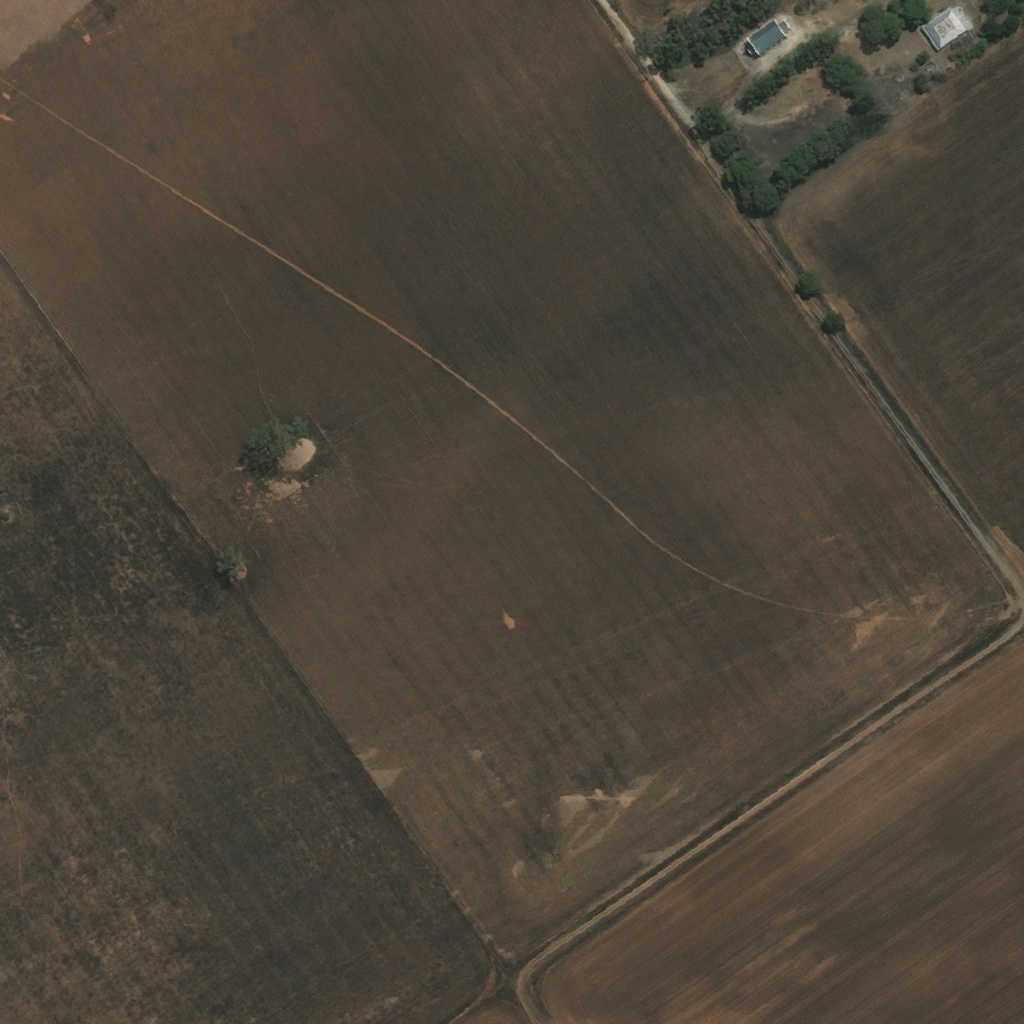0 no-damage: (917, 4, 973, 54), (745, 20, 791, 60)
